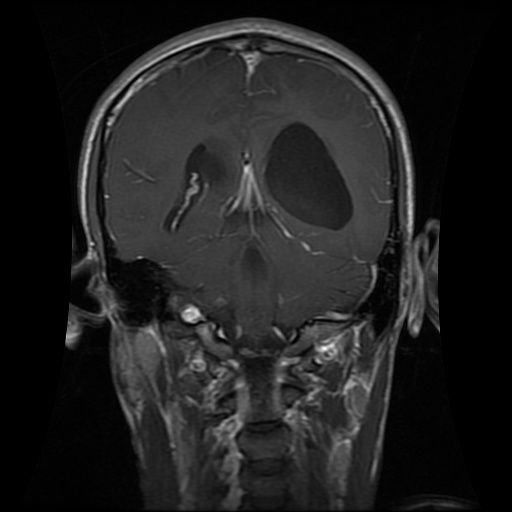glioma: (210, 61, 285, 128)
